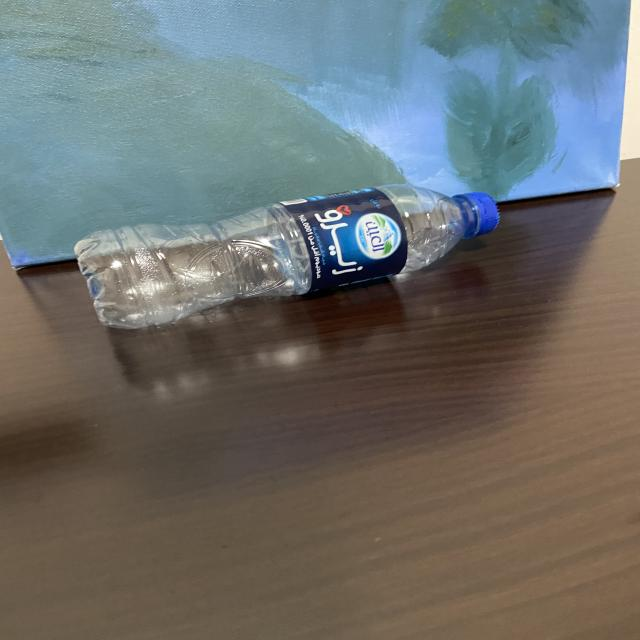bottle: (74, 180, 519, 338)
